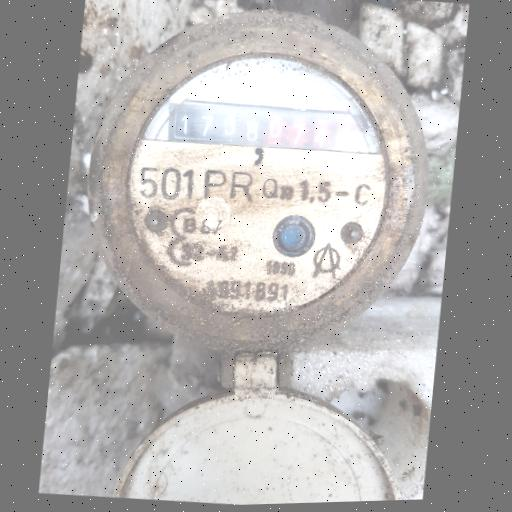0: (264, 115, 288, 148)
1: (174, 109, 194, 139)
3: (220, 114, 239, 143)
4: (334, 120, 358, 152), (311, 121, 331, 151)
7: (194, 110, 217, 142), (288, 117, 310, 148)
8: (243, 115, 262, 145)
border_water_meter_number: (165, 97, 368, 161)
